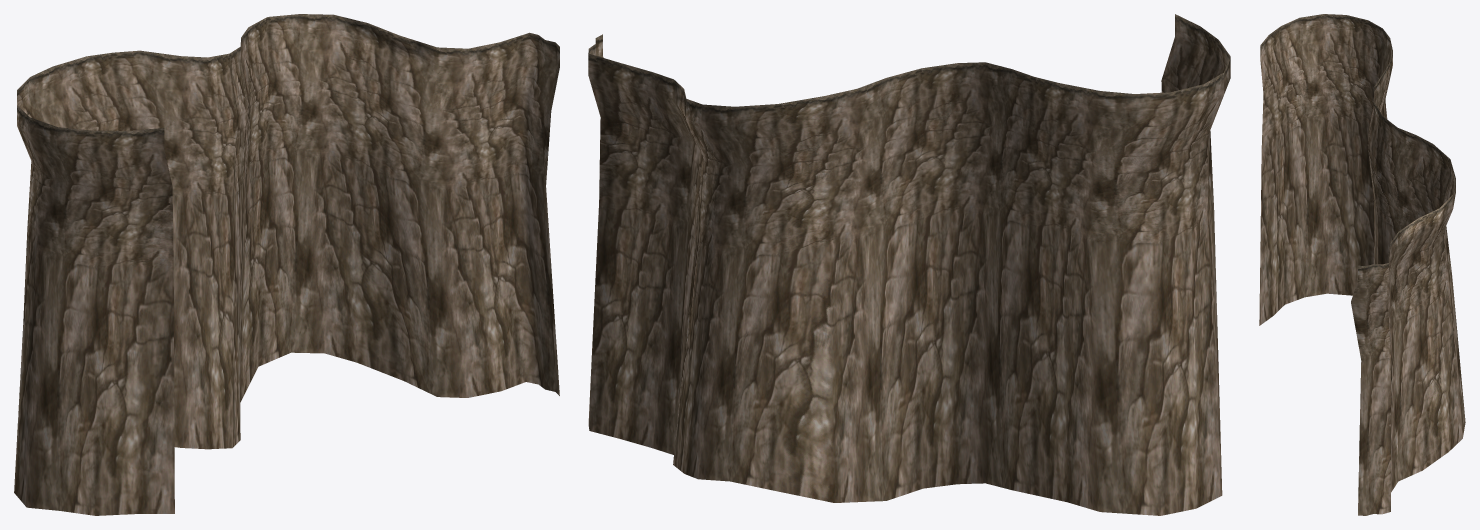
The model's file is OVERHILL_A_01_LINE53.fbx.
3 renders of one model, left to right at view 1: azimuth 30°, elevation 25°; view 2: azimuth 150°, elevation 25°; view 3: azimuth 270°, elevation 25°, orthographic. The views are drawn at different scales.
Parts seen in each view (by area): view 1: OVERHILL_A_01_LINE53; view 2: OVERHILL_A_01_LINE53; view 3: OVERHILL_A_01_LINE53.
Boxes of the visible parts, box(x1,y1,x2,y2) form: OVERHILL_A_01_LINE53: box(14, 14, 559, 515); OVERHILL_A_01_LINE53: box(588, 14, 1230, 515); OVERHILL_A_01_LINE53: box(1259, 14, 1465, 515).
Size of the model in its own units: 284869 by 212259 by 128028.
2 materials, 2 textured.
